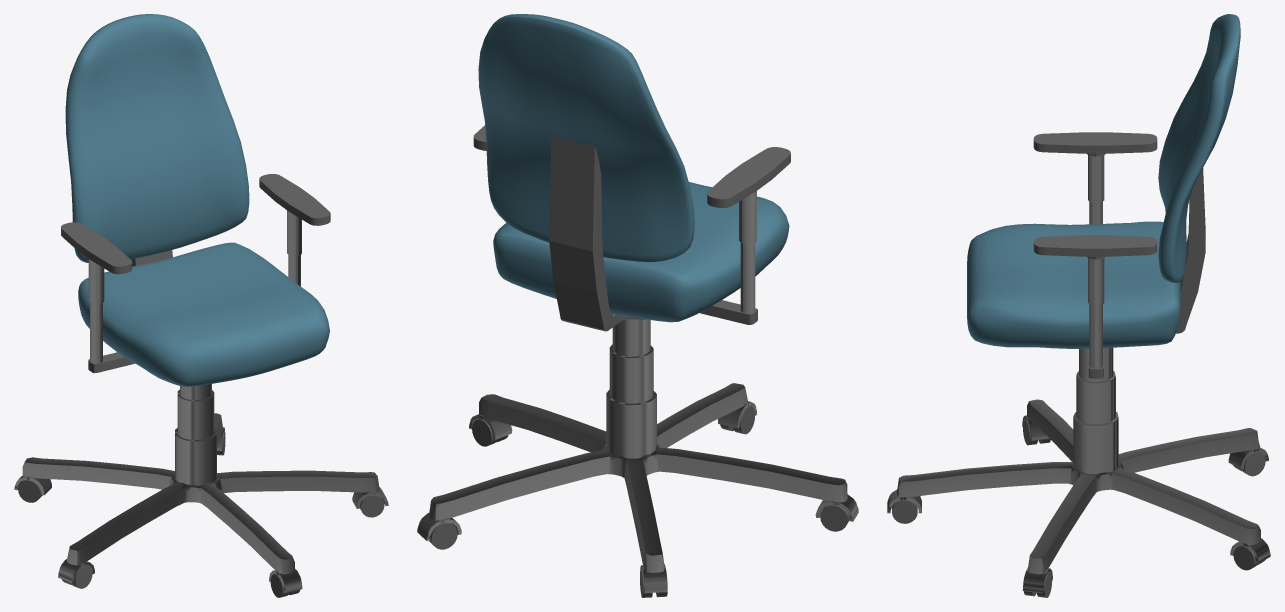
Rendered from silla con  rueditas.fbx.
3 renders of one model, left to right at view 1: azimuth 30°, elevation 25°; view 2: azimuth 150°, elevation 25°; view 3: azimuth 270°, elevation 25°, orthographic. The views are drawn at different scales.
Parts seen in each view (by area): view 1: polySurface40, pCylinder10, polySurface41; view 2: pCylinder10, polySurface40, polySurface41; view 3: pCylinder10, polySurface41, polySurface40.
Boxes of the visible parts, x1=… form: polySurface40: x1=65, y1=14, x2=249, y2=262; pCylinder10: x1=14, y1=174, x2=388, y2=597; polySurface41: x1=78, y1=242, x2=329, y2=386; pCylinder10: x1=417, y1=125, x2=858, y2=597; polySurface40: x1=478, y1=14, x2=694, y2=261; polySurface41: x1=493, y1=182, x2=789, y2=322; pCylinder10: x1=887, y1=132, x2=1270, y2=597; polySurface41: x1=967, y1=221, x2=1180, y2=348; polySurface40: x1=1158, y1=14, x2=1240, y2=282.
Size of the model in its own units: 713 by 967 by 682.
